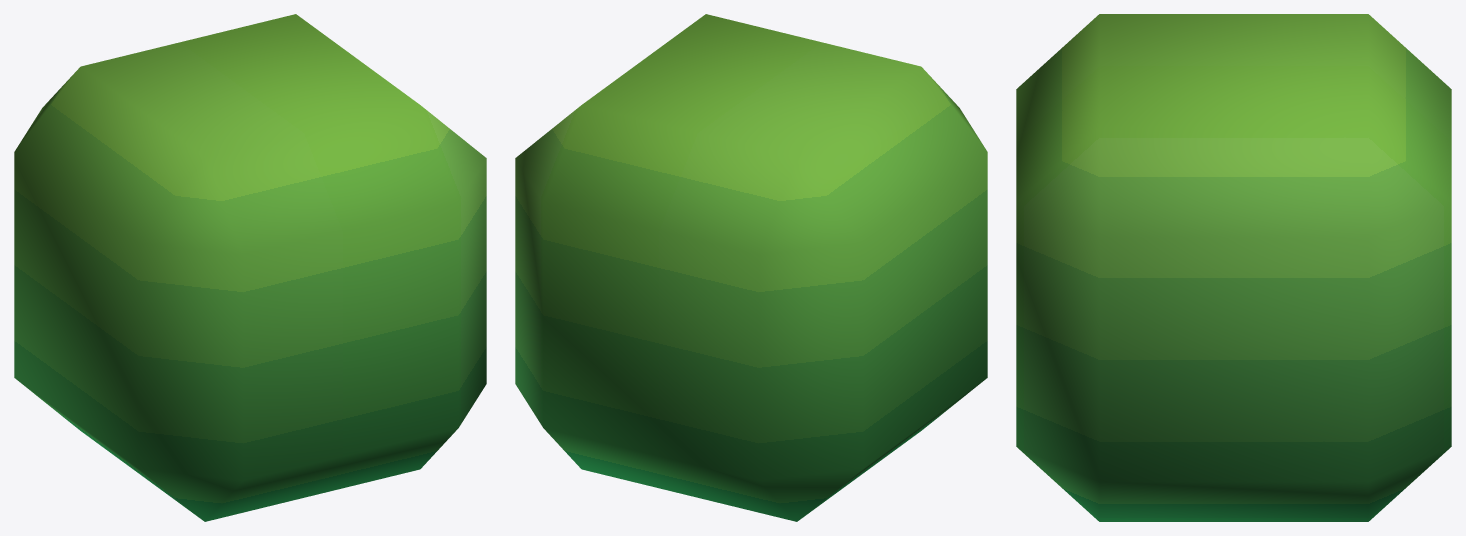
The model's file is Bush_2_A_Color1.glb.
3 renders of one model, left to right at view 1: azimuth 30°, elevation 25°; view 2: azimuth 150°, elevation 25°; view 3: azimuth 270°, elevation 25°, orthographic. The views are drawn at different scales.
Visible parts, largest first — view 1: Bush_2_A_Color1; view 2: Bush_2_A_Color1; view 3: Bush_2_A_Color1.
Part boxes in pixels (box(x1,y1,x2,y2)): Bush_2_A_Color1: box(14, 14, 486, 521); Bush_2_A_Color1: box(515, 14, 987, 521); Bush_2_A_Color1: box(1016, 14, 1451, 521).
Size of the model in its own units: 0.528 by 0.528 by 0.528.
1 material, 1 textured.
